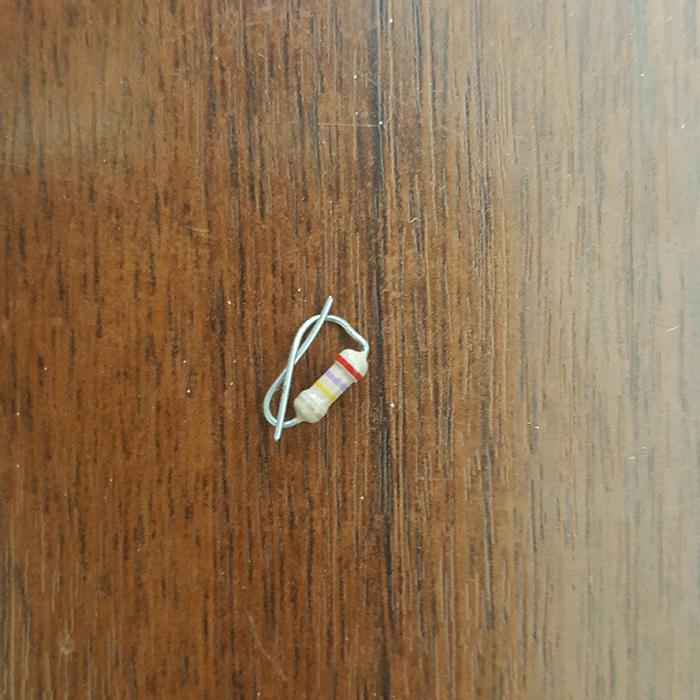resistor: (291, 345, 367, 424)
